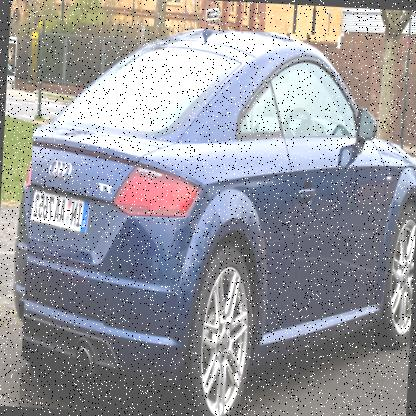Car: (17, 19, 415, 415)
